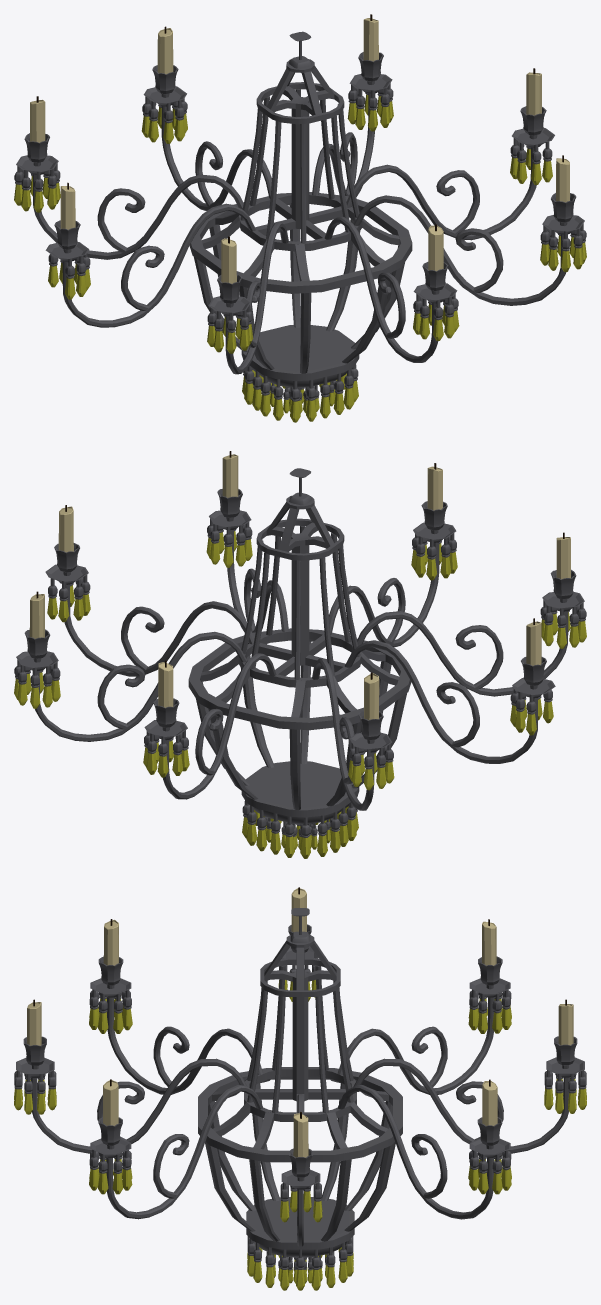
The model's file is HangingLight_Roof.fbx.
The picture shows the model from 3 angles, top to bottom: view 1: azimuth 30°, elevation 25°; view 2: azimuth 150°, elevation 25°; view 3: azimuth 270°, elevation 25°; orthographic projection.
Parts seen in each view (by area): view 1: polySurface7339; view 2: polySurface7339; view 3: polySurface7339.
Boxes of the visible parts, x1,y1,x2,y2 form: polySurface7339: (14,14,586,422); polySurface7339: (14,451,586,858); polySurface7339: (14,887,586,1290).
Bounding box in the file's own units: 1.64 × 1.16 × 1.65.
